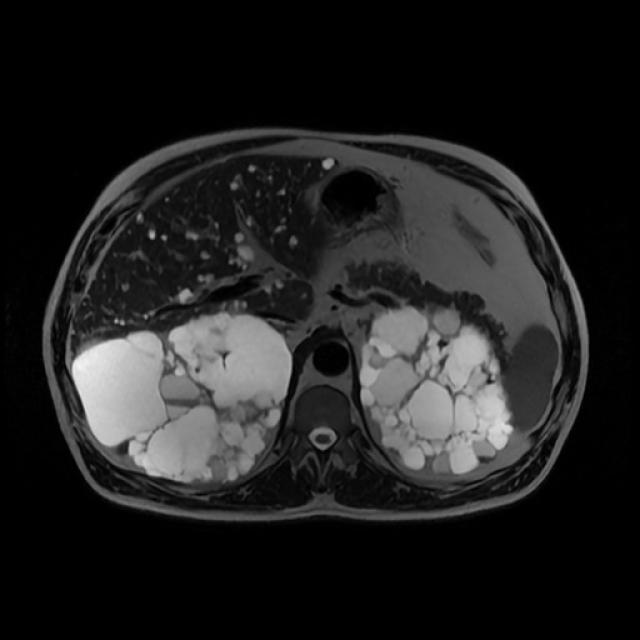sag: (75, 310, 290, 482)
sol: (361, 307, 510, 472)
